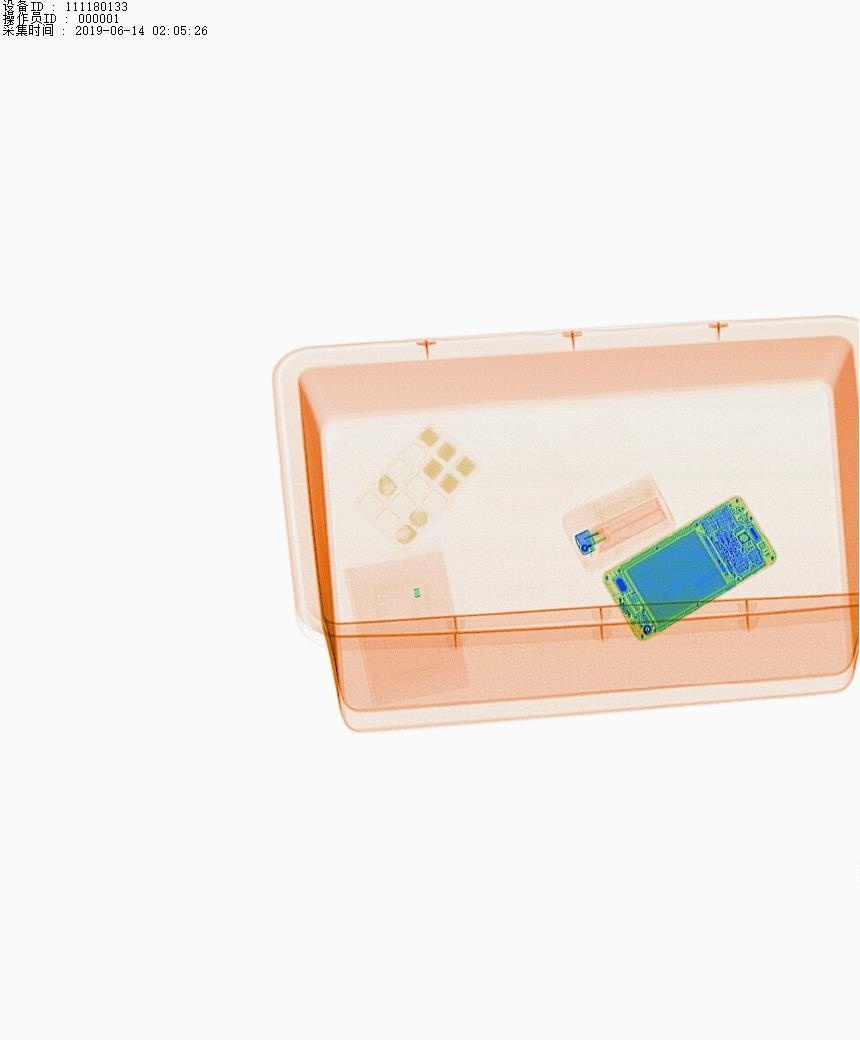NonmetallicFire: (561, 497, 668, 550)
